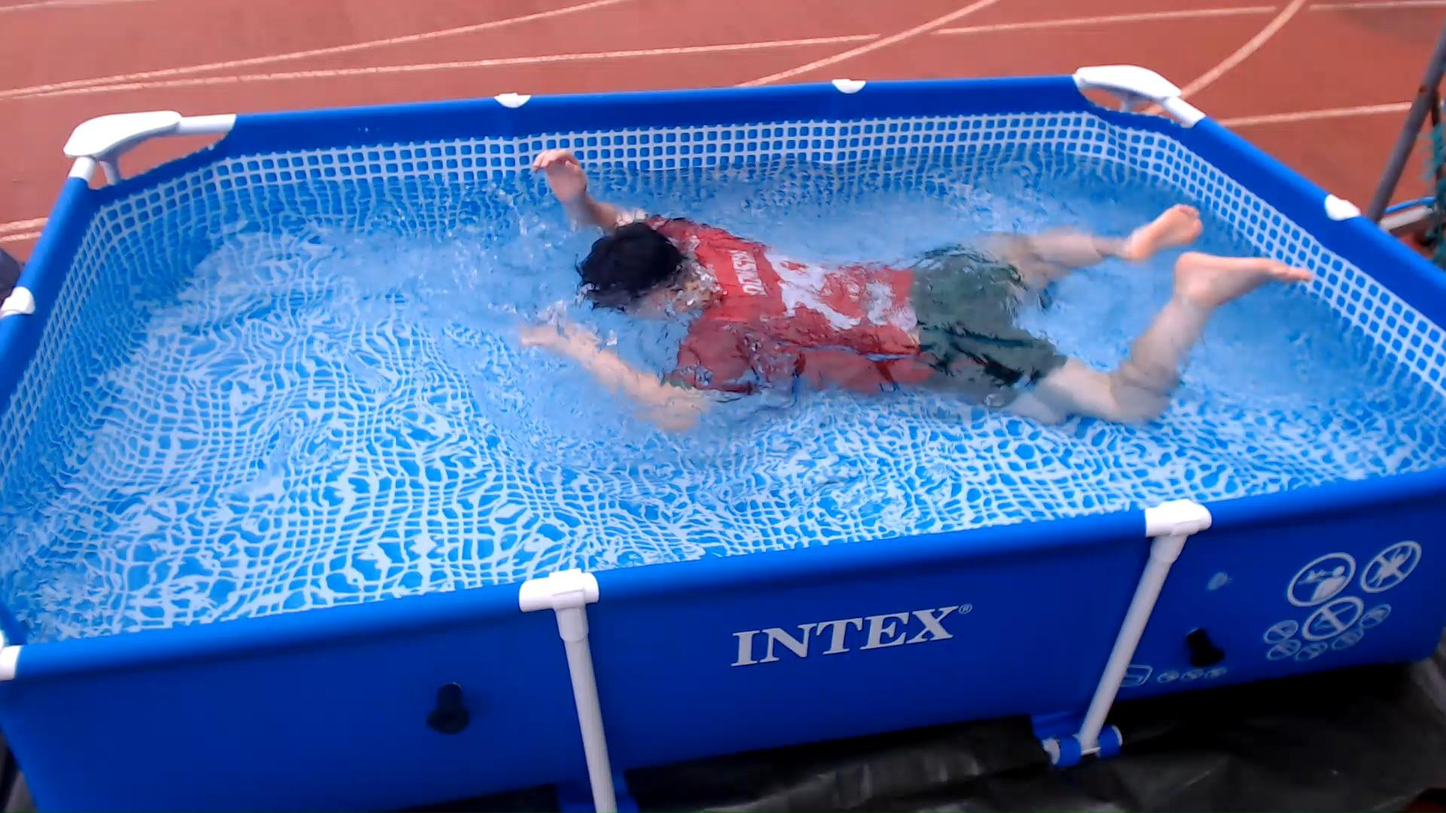Drowning: (457, 118, 1332, 471)
